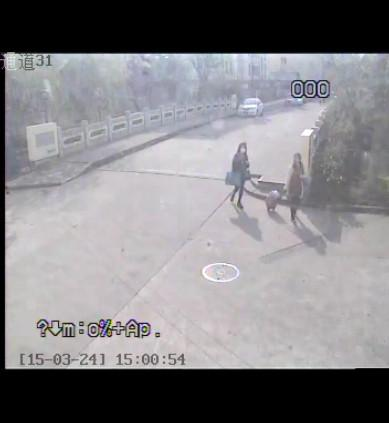person: (226, 142, 255, 216), (285, 151, 307, 224)
